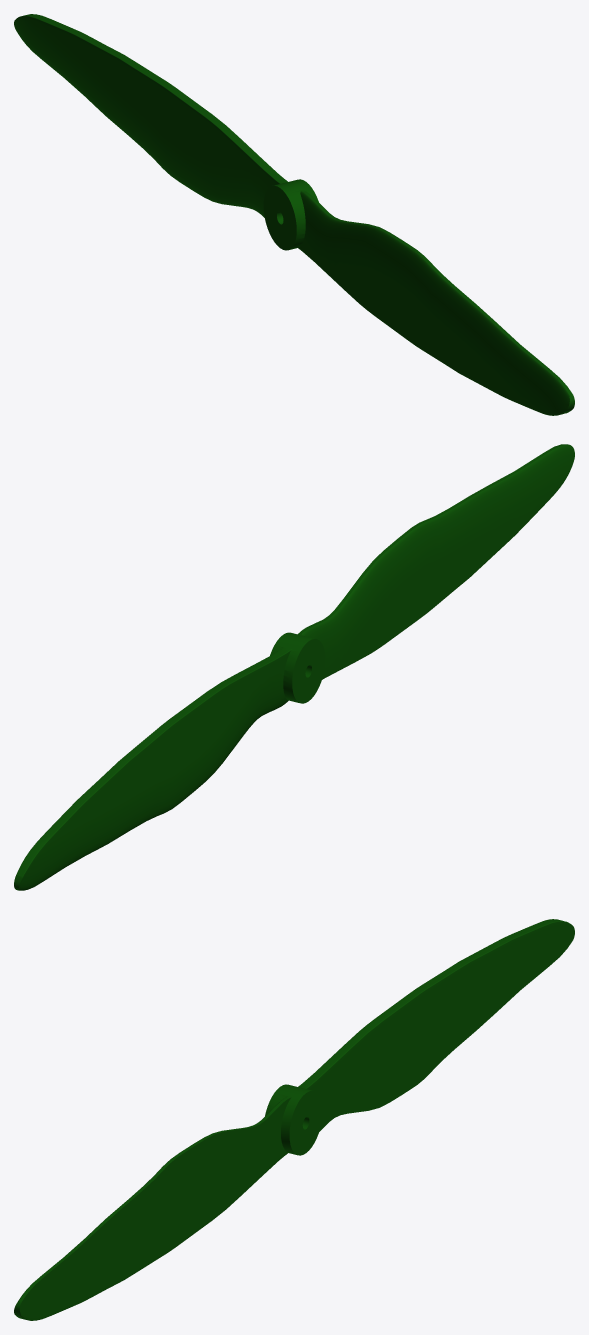
File: helice.dae
3 renders of one model, top to bottom at view 1: azimuth 30°, elevation 25°; view 2: azimuth 150°, elevation 25°; view 3: azimuth 330°, elevation 25°, orthographic.
Parts seen in each view (by area): view 1: helice1.001; view 2: helice1.001; view 3: helice1.001.
Boxes of the visible parts, box(x1,y1,x2,y2) form: helice1.001: box(14, 14, 574, 415); helice1.001: box(14, 444, 574, 890); helice1.001: box(14, 919, 574, 1320).
Bounding box in the file's own units: 0.0208 × 0.7715 × 0.0792.
Materials: 1 (1 with a texture image).
